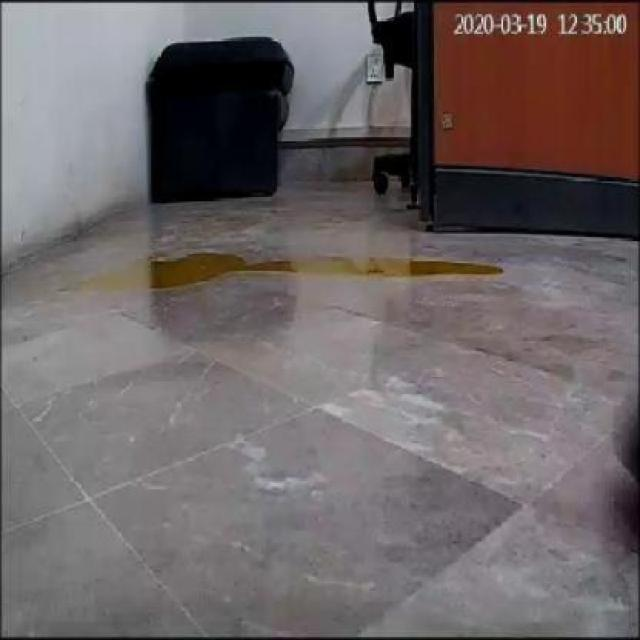spillage: (149, 253, 505, 288), (74, 268, 144, 294)
